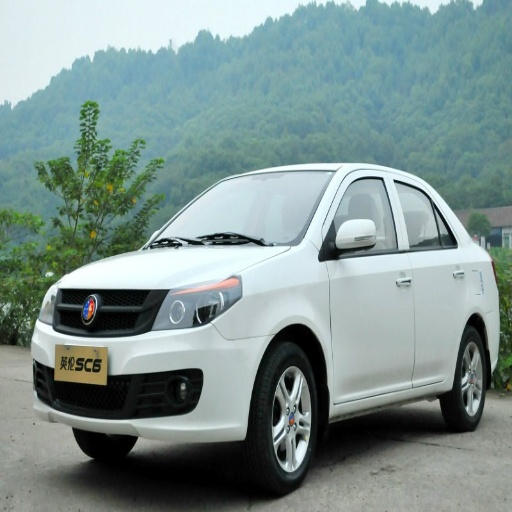front_bumper: (31, 286, 270, 443)
front_glass: (150, 173, 335, 247)
front_left_door: (324, 174, 413, 401)
